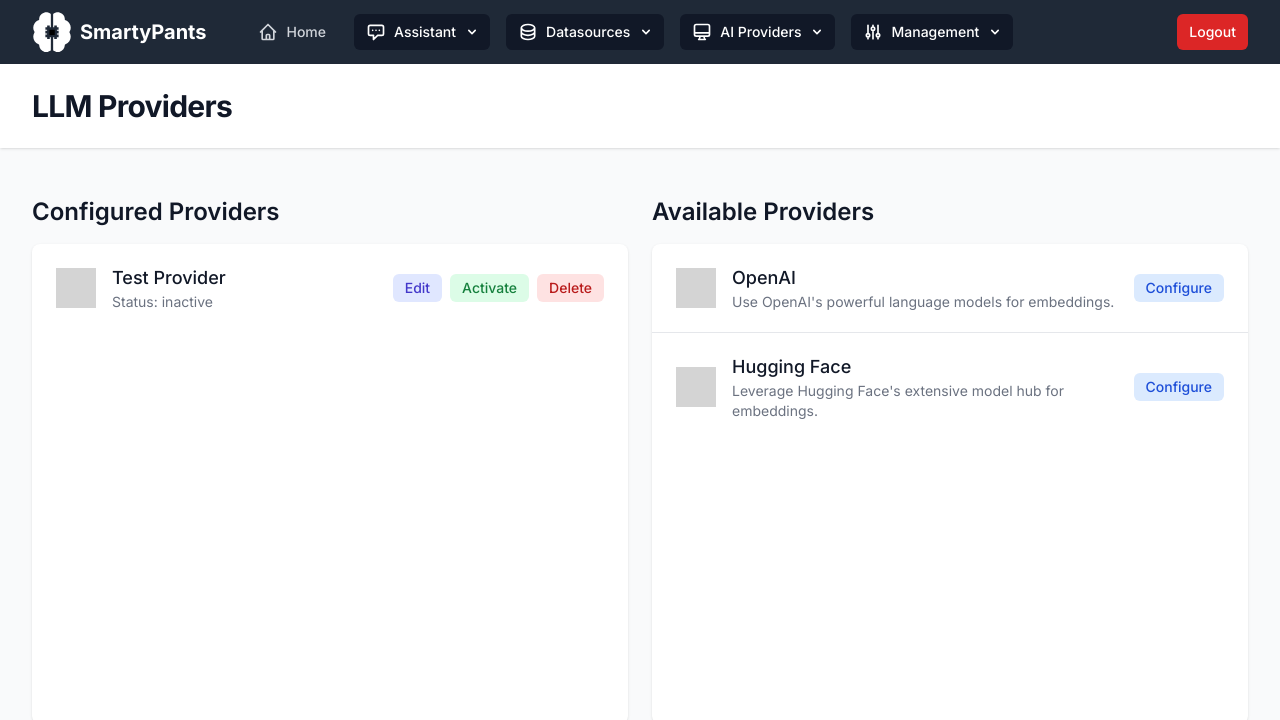
Test: LLMProvidersPage › handles API error on activate
Expected: the heading "Test Provider" is shown, [112,264,226,292]
Click the button "Activate".
click(490, 288)  # box [450,274,529,302]
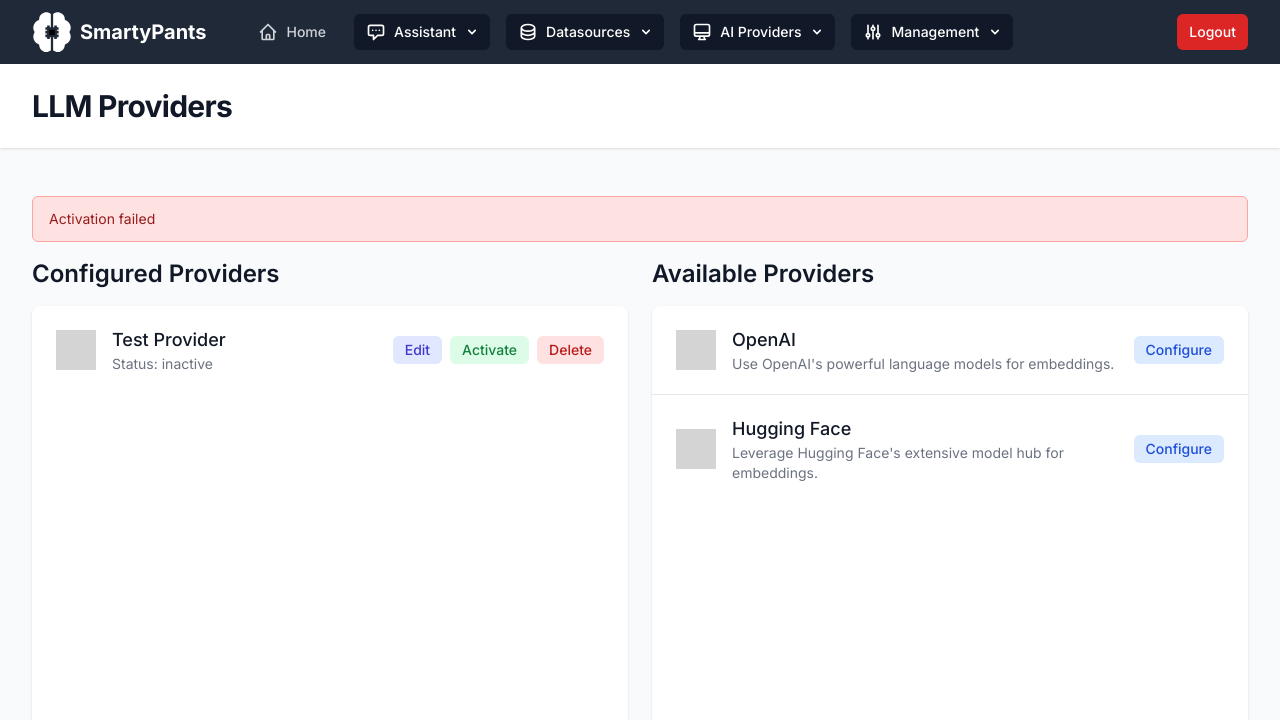
Expected: the text "Activation failed" is shown, [49,210,155,227]
